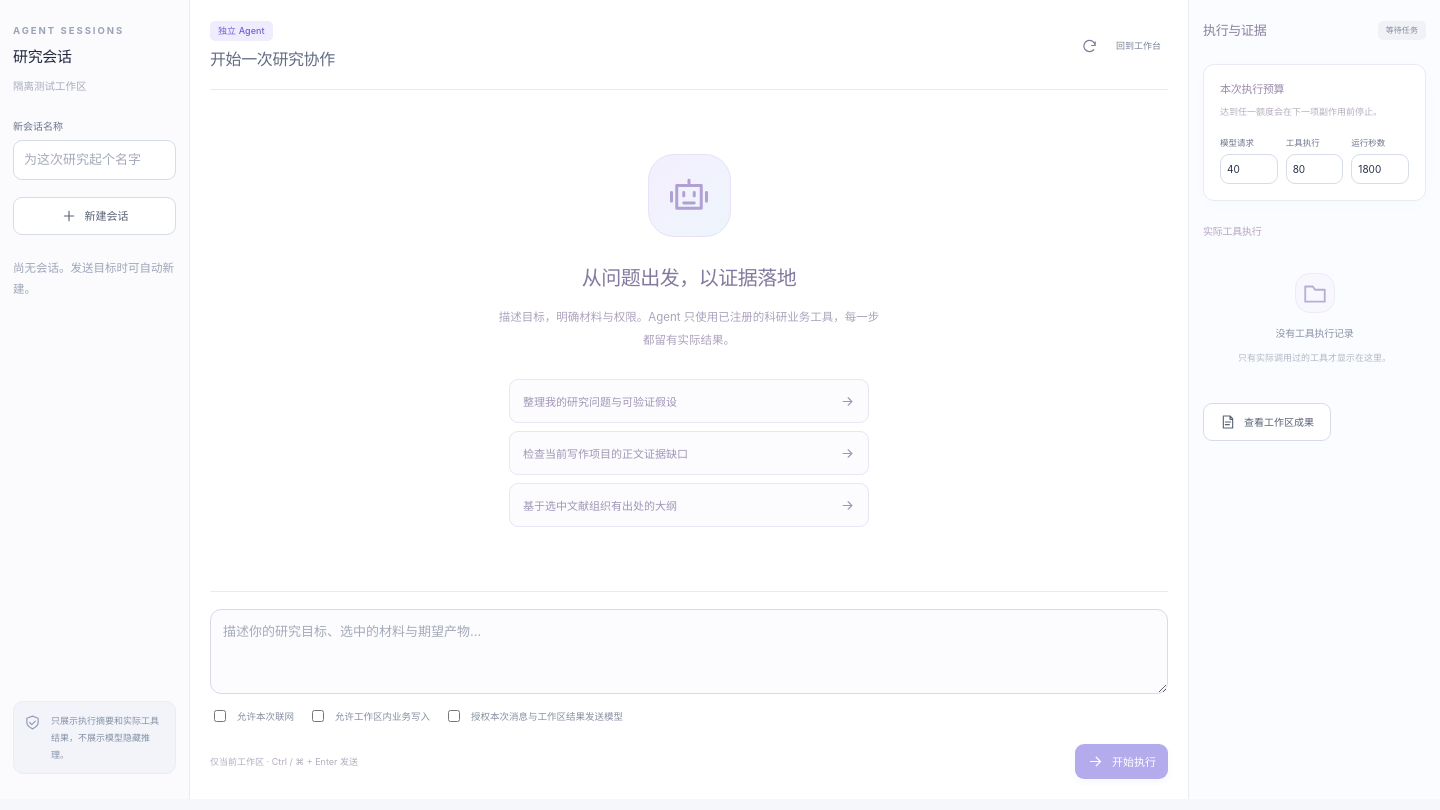
Scenario: 单次消息只POST一次幂等request_id，默认权限保守且预算完整
In the text box named "Agent 消息": x=689, y=652 [210, 609, 1168, 694], type "检查实际正文证据"
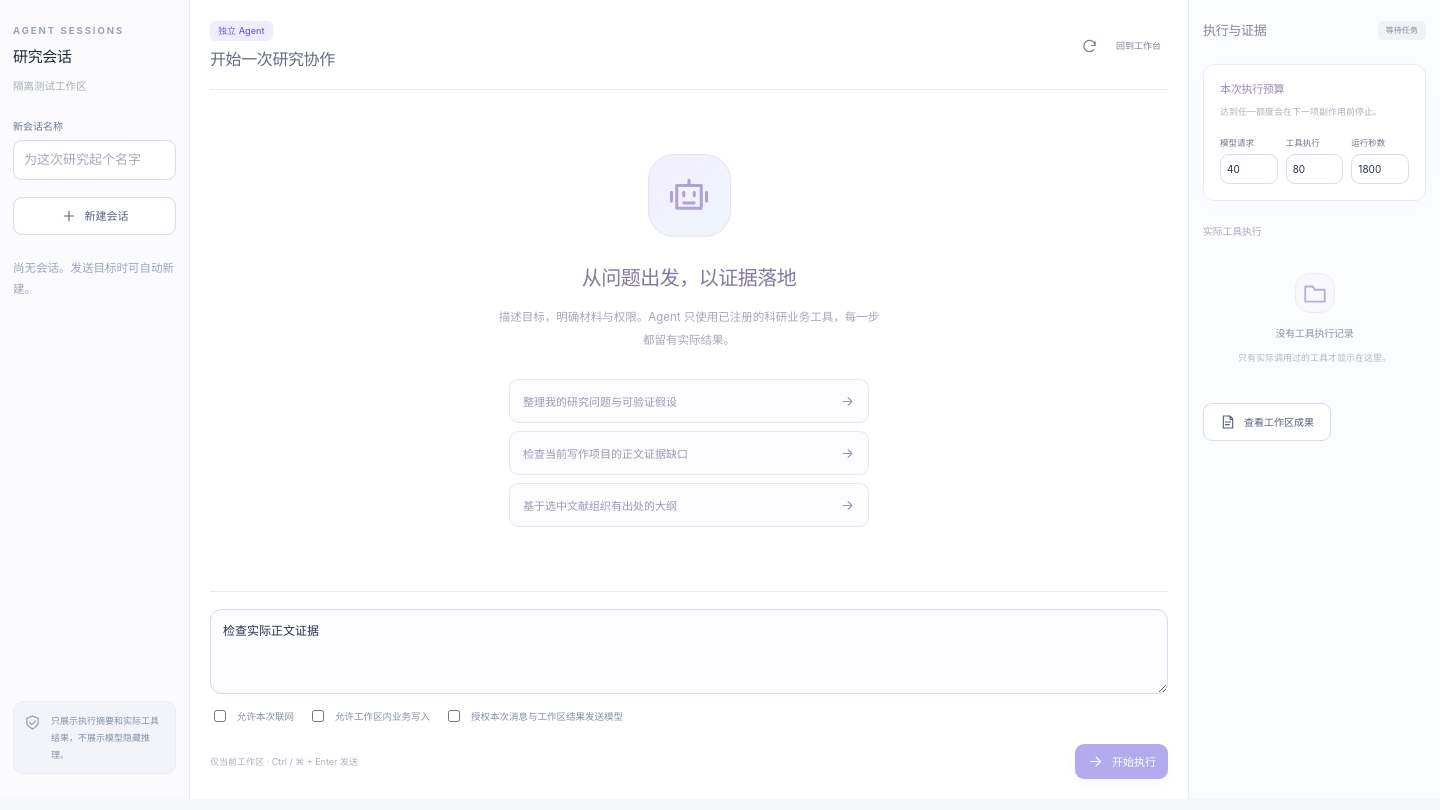
Check: the button "开始执行" is disabled, box [1075, 744, 1168, 780]
Click the checkbox labelled "授权本次消息与工作区结果发送模型": x=454, y=716 [448, 710, 460, 722]
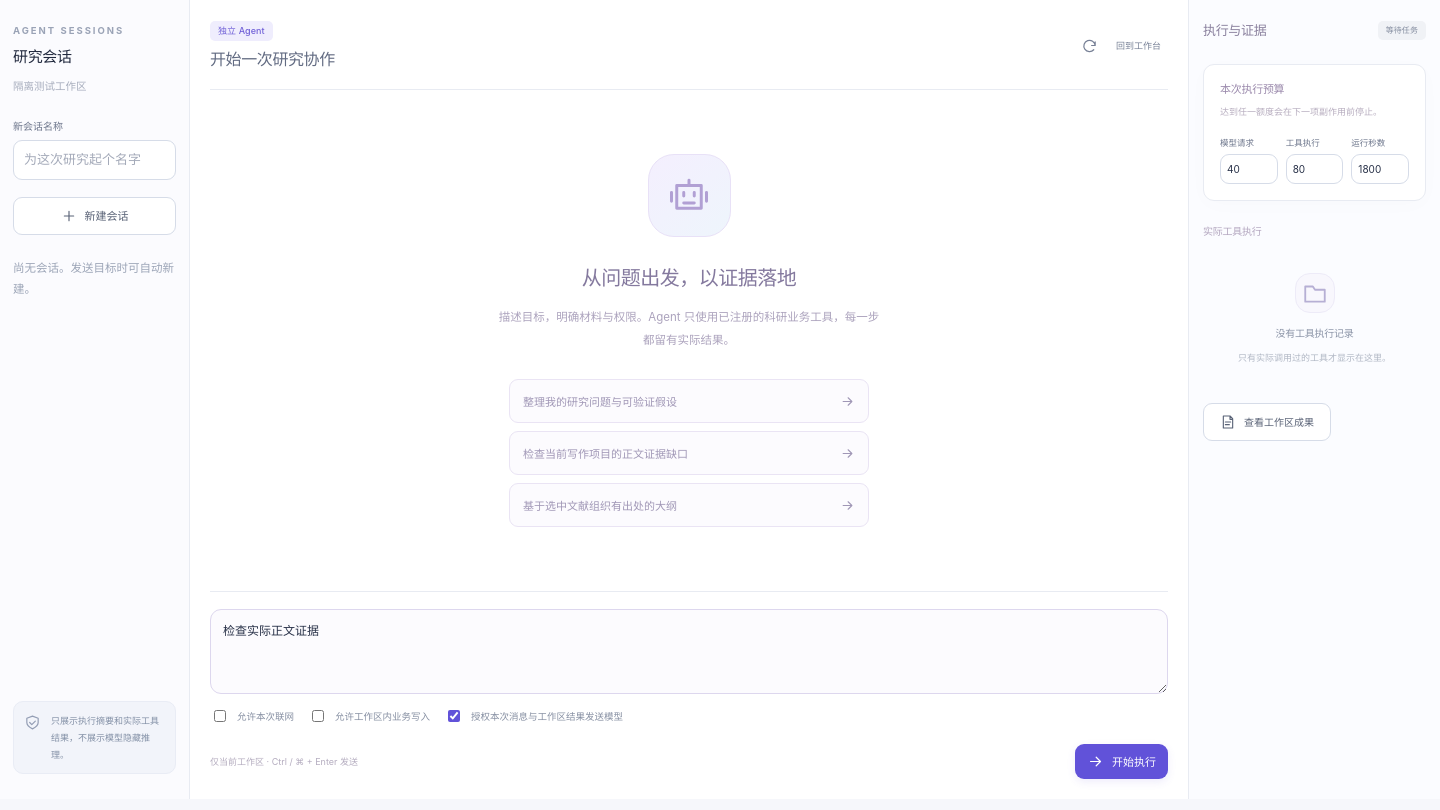
Click the button "开始执行": x=1122, y=762 [1075, 744, 1168, 780]
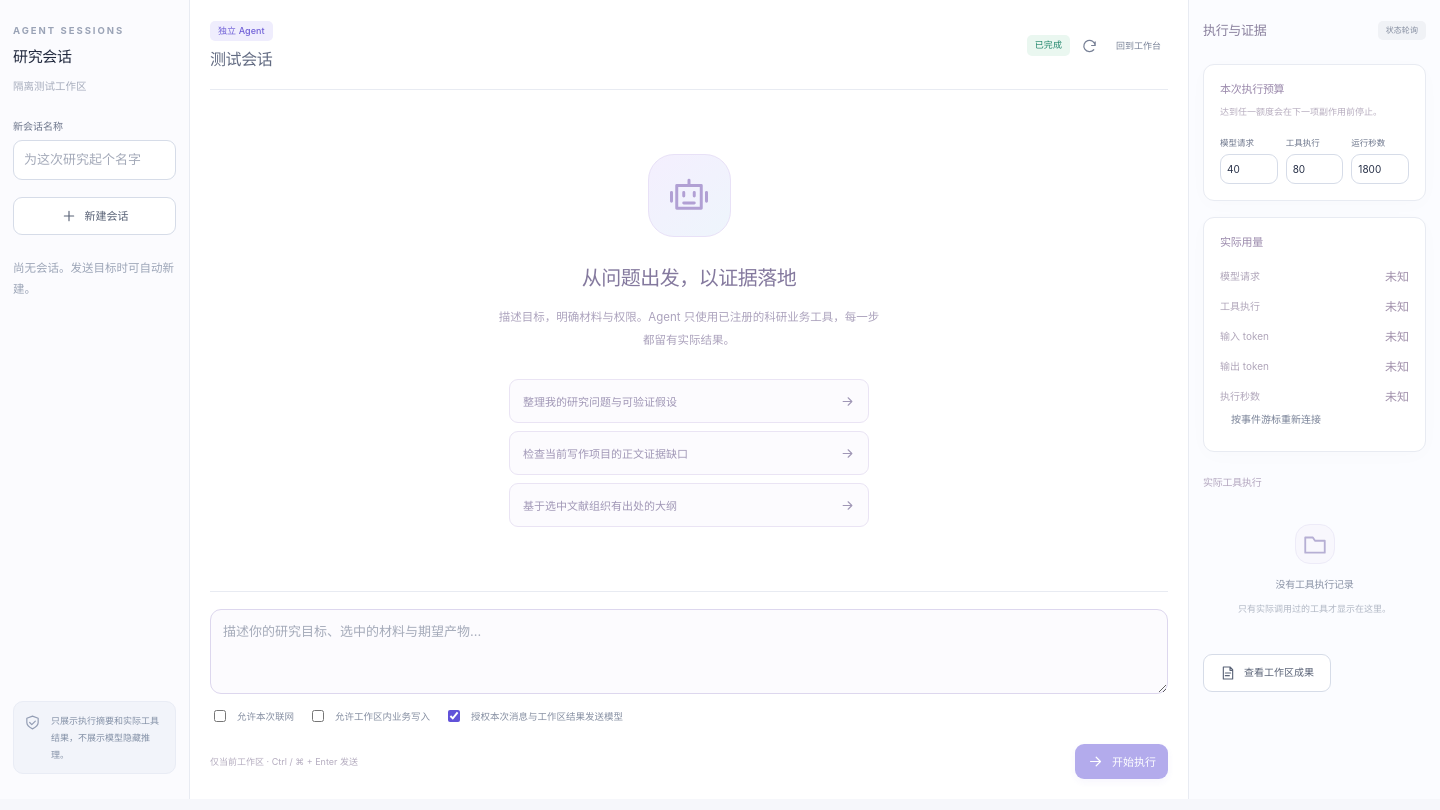
Check: the 1st text "未知" is shown, box [1385, 267, 1409, 284]
